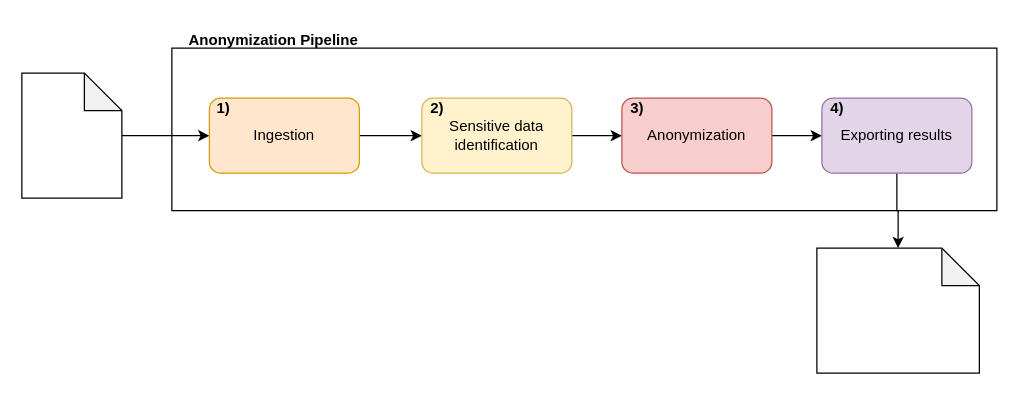
The diagram is 1019 pixels wide and 395 high, and some of its shapes have lost their labels. Here are the shapes that lost their labels. From the top down, the centre of each, then its label:
At point 71,135: "File with text to be Anonymized".
At point 897,310: "Export with Anonymized data and identified Entities".
